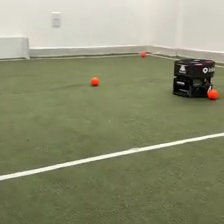ball: (206, 86, 220, 100), (89, 74, 100, 86), (139, 49, 146, 57)
goal: (1, 34, 31, 62)
robot: (172, 54, 217, 100)
